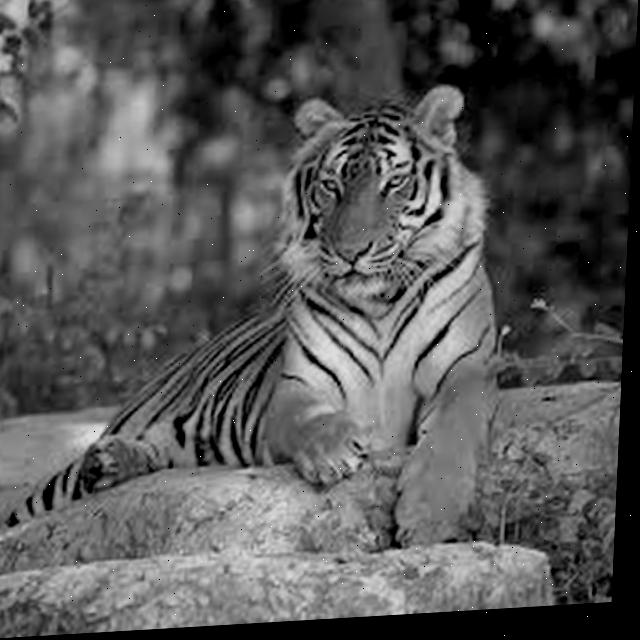Tiger: (0, 77, 522, 572)
